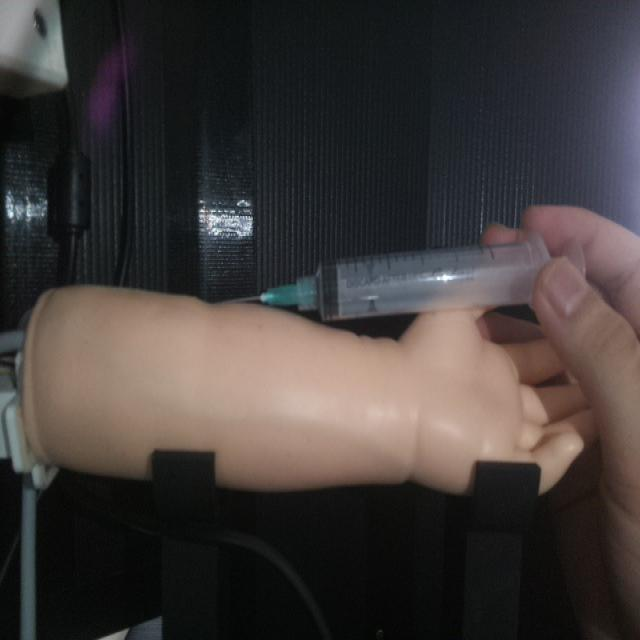Outside: (221, 228, 585, 319)
